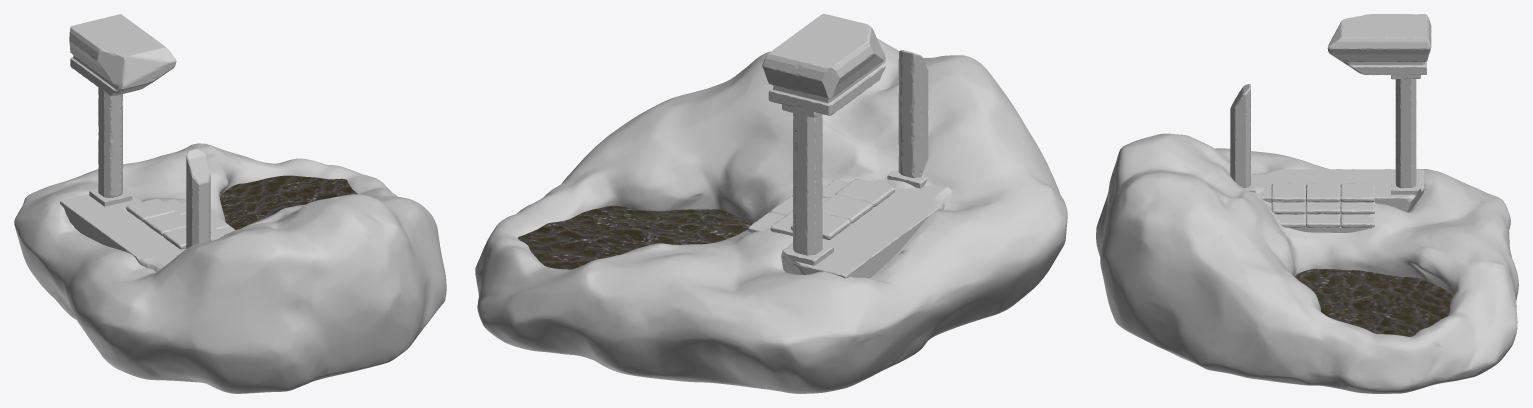
The model's file is Ruins_Mesh.fbx.
3 renders of one model, left to right at view 1: azimuth 30°, elevation 25°; view 2: azimuth 150°, elevation 25°; view 3: azimuth 270°, elevation 25°, orthographic. The views are drawn at different scales.
Parts seen in each view (by area): view 1: Terrain_low, Ruins_low, Plane; view 2: Terrain_low, Ruins_low, Plane; view 3: Terrain_low, Ruins_low, Plane.
Part boxes in pixels (<box>): Terrain_low: <box>14,143,446,393</box>; Ruins_low: <box>60,14,235,271</box>; Plane: <box>220,175,357,229</box>; Terrain_low: <box>475,38,1067,393</box>; Ruins_low: <box>748,14,951,278</box>; Plane: <box>518,205,752,269</box>; Terrain_low: <box>1096,133,1518,393</box>; Ruins_low: <box>1230,14,1431,232</box>; Plane: <box>1295,268,1452,336</box>.
Bounding box in the file's own units: 1652 × 1053 × 1645.
